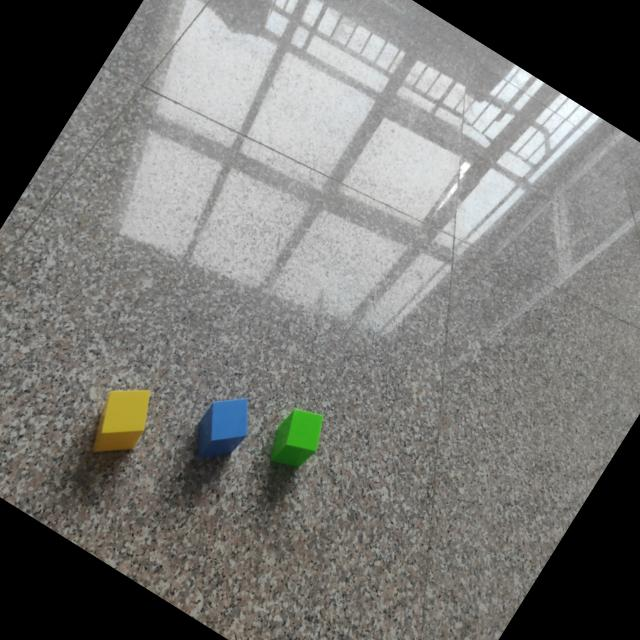blue: (193, 398, 248, 462)
green: (268, 410, 323, 471)
yellow: (90, 389, 149, 456)
